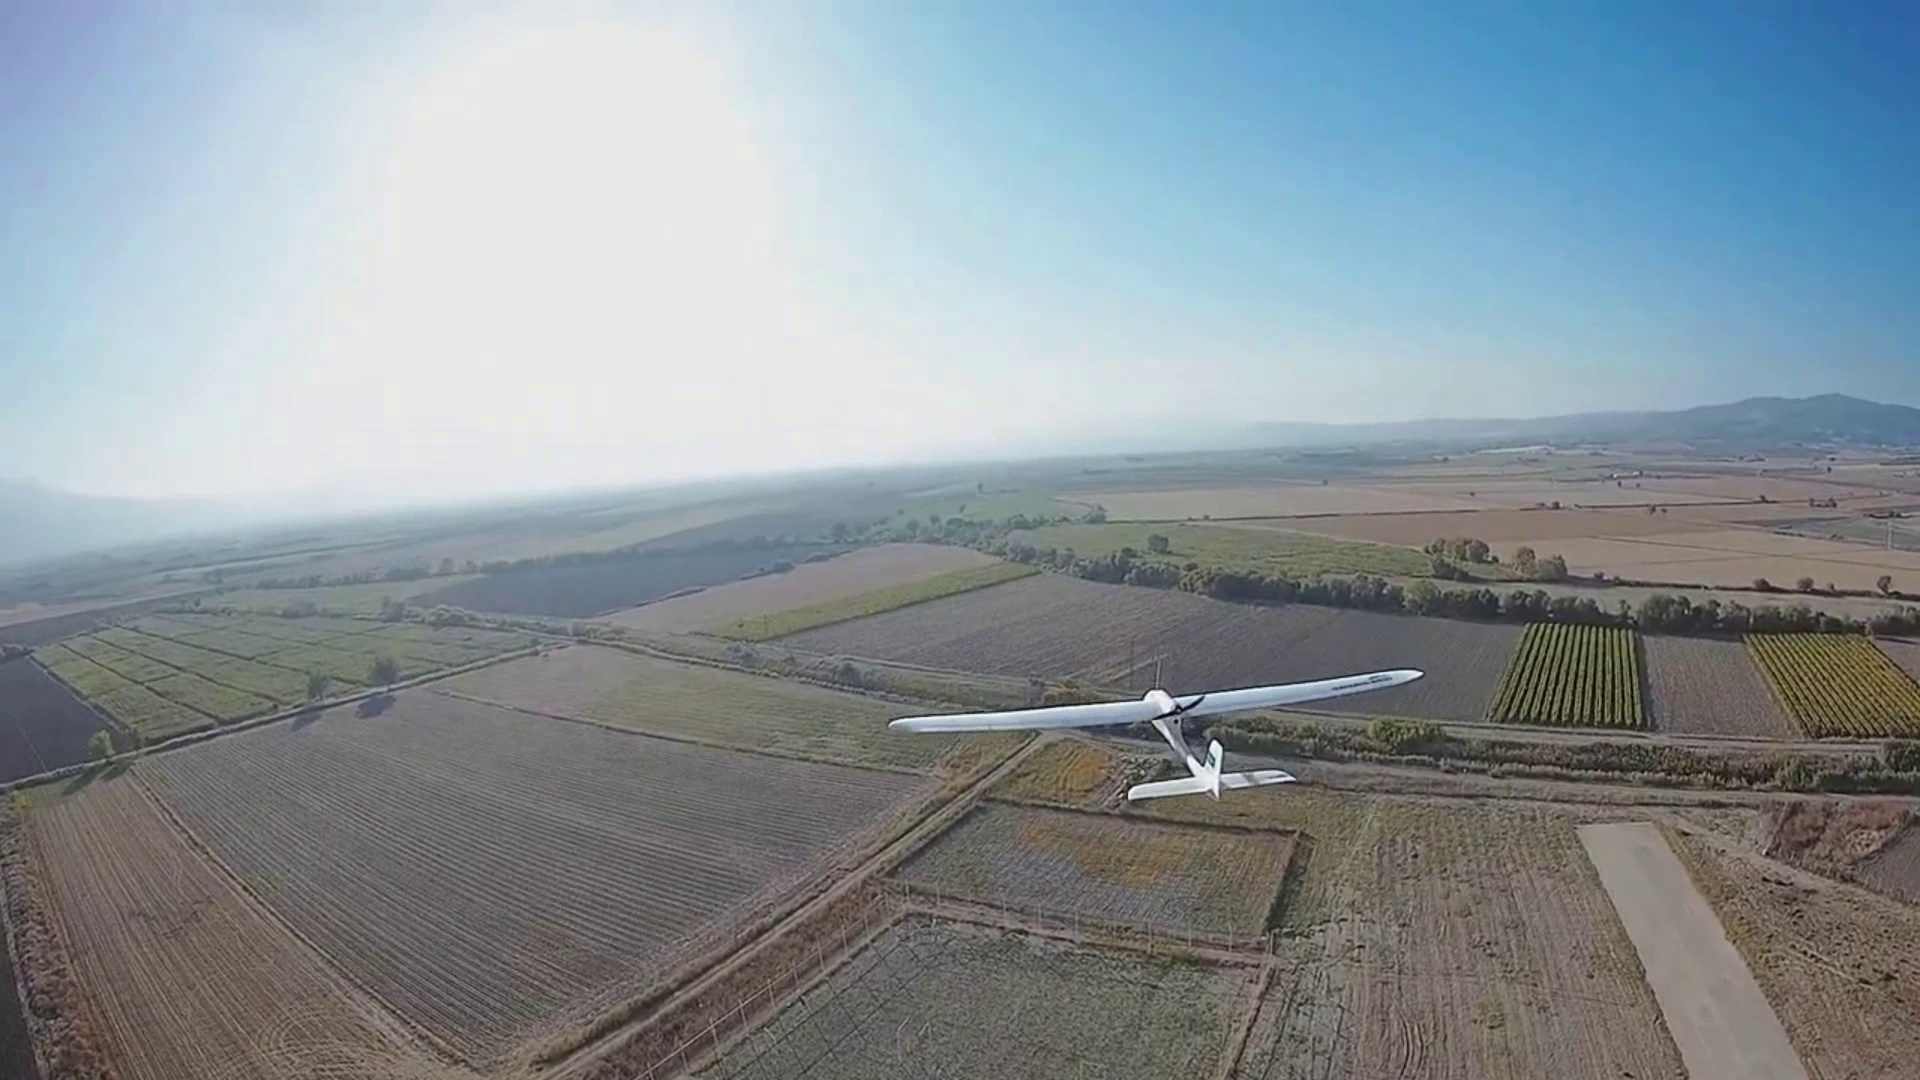airplane: (881, 672, 1423, 808)
